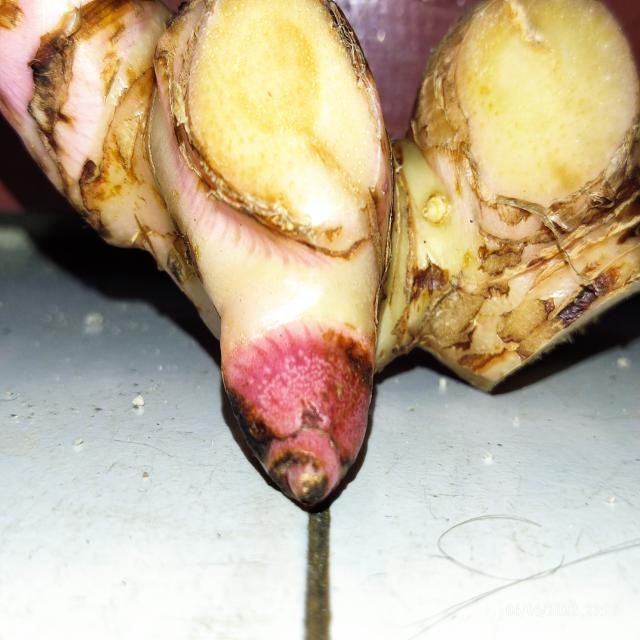ginger: (5, 5, 640, 452)
